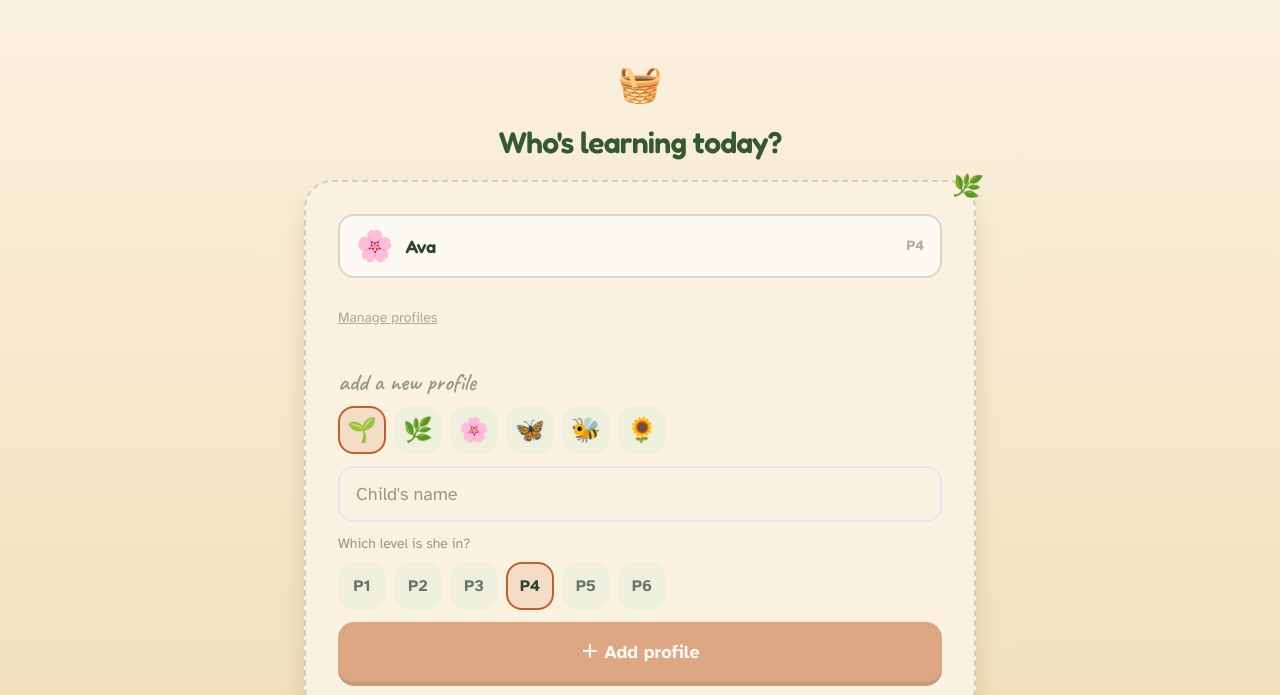
it: ChildPicker › regression: entering the wrong PIN for a profile does not select it
Click the text "Ava".
click(421, 246)  # box [405,232,436,260]
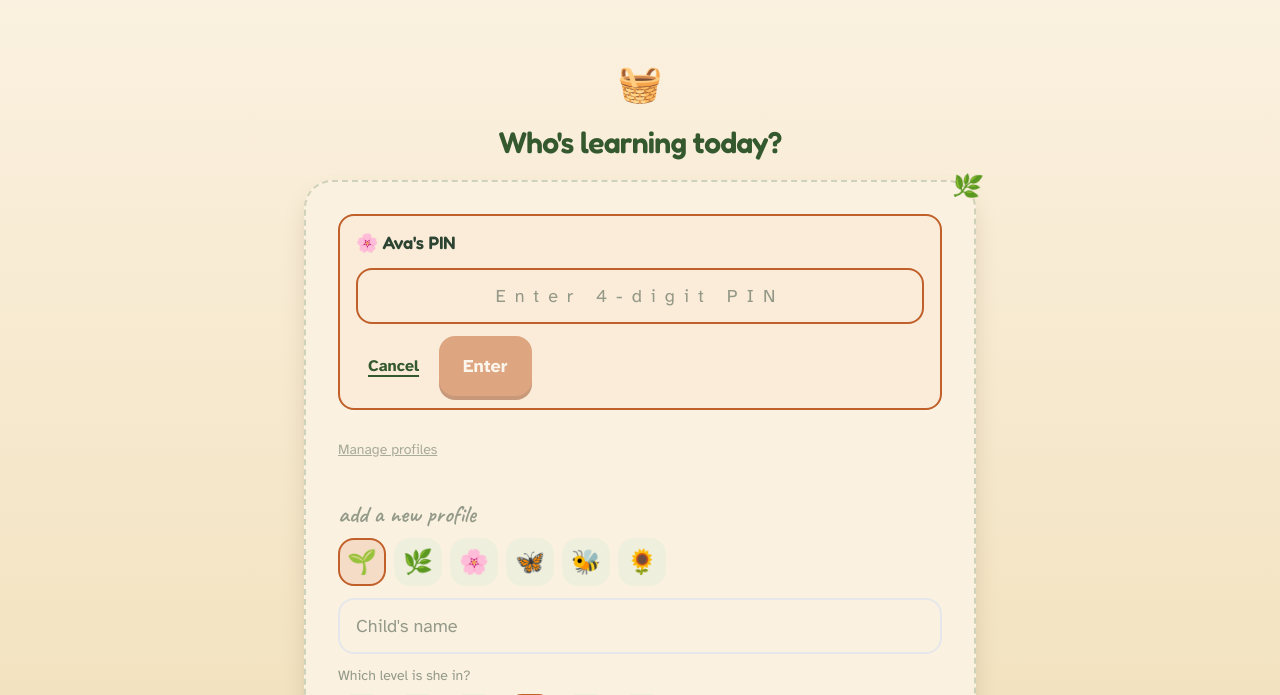
Type "9999" into the password field with placeholder "Enter 4-digit PIN".
click(640, 296); type("9999")  # box [356,268,924,324]
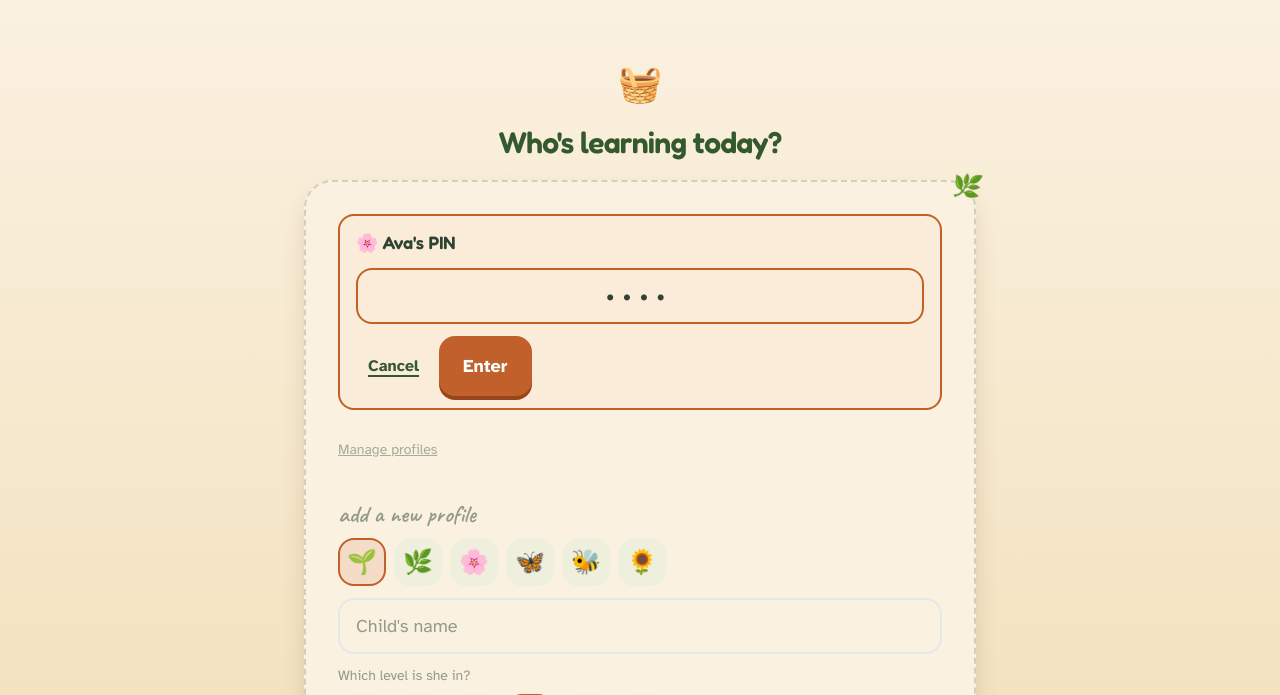
Click the button "Enter".
click(485, 366)  # box [439,336,532,396]
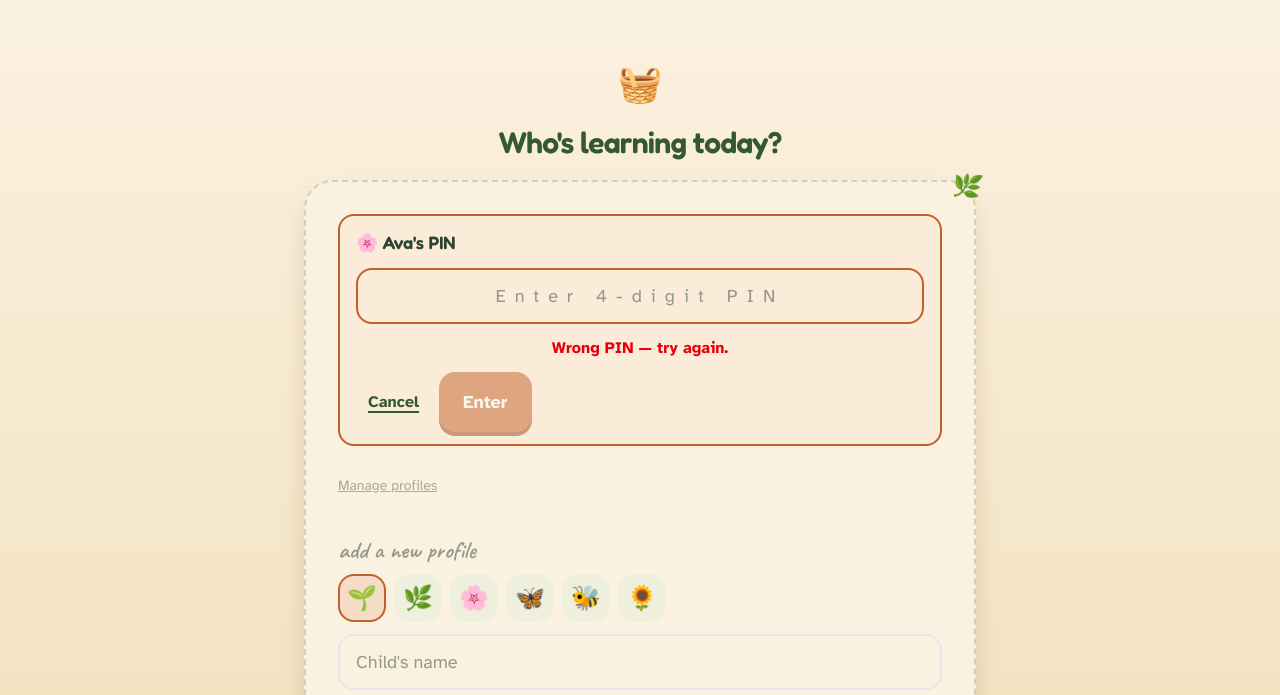
Now the text "Wrong PIN — try again." is shown, box [552,338,728,358]
